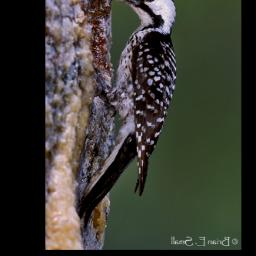Woodpecker: (79, 0, 179, 226)
